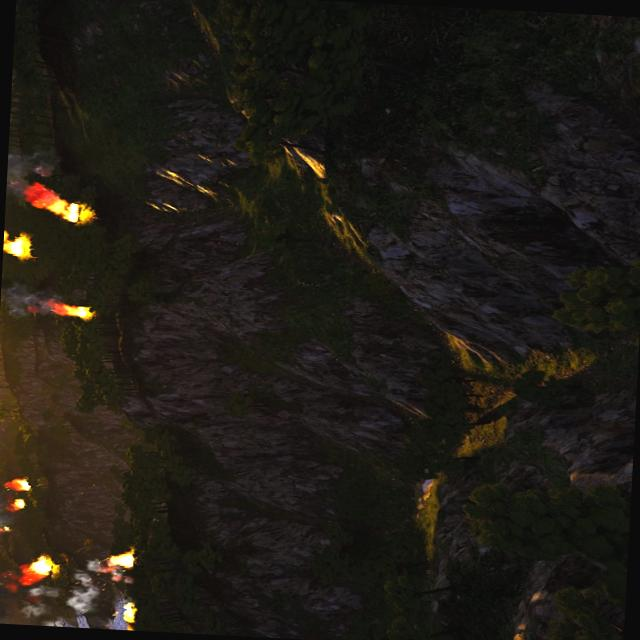fire: (26, 184, 88, 222), (3, 234, 30, 258), (118, 600, 140, 627), (58, 302, 94, 318), (108, 550, 136, 566), (10, 476, 33, 491), (10, 498, 28, 510), (0, 524, 16, 532)
smoke: (0, 561, 99, 629), (5, 148, 62, 212), (0, 284, 63, 320), (0, 490, 11, 545)
